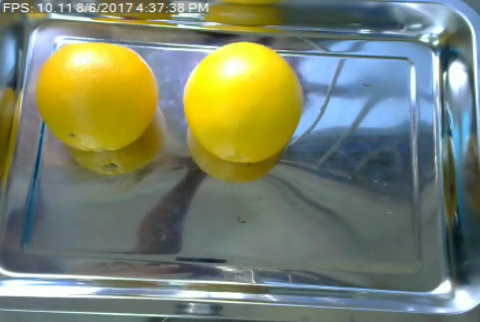Orange: (180, 41, 304, 161), (35, 41, 157, 150)
